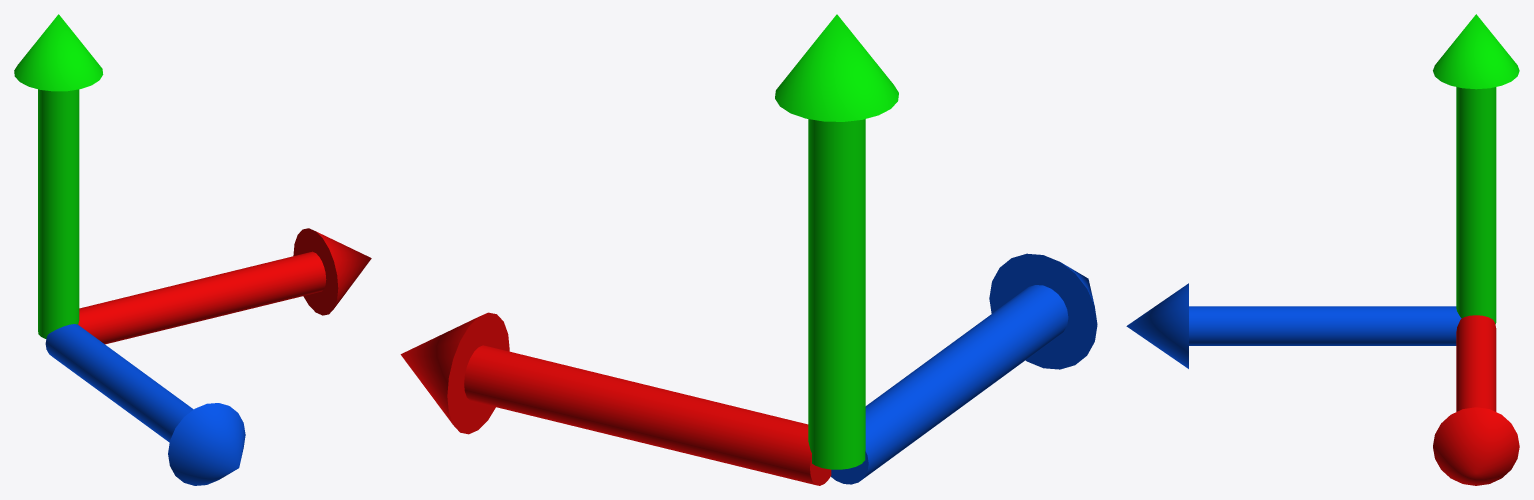
Rendered from triad.fbx.
The picture shows the model from 3 angles, left to right: view 1: azimuth 30°, elevation 25°; view 2: azimuth 150°, elevation 25°; view 3: azimuth 270°, elevation 25°; orthographic projection. The views are drawn at different scales.
Visible parts, largest first — view 1: pasted__pCone2; view 2: pasted__pCone2; view 3: pasted__pCone2.
Boxes of the visible parts, bbox=[...] form: pasted__pCone2: bbox=[14, 14, 371, 485]; pasted__pCone2: bbox=[400, 14, 1097, 485]; pasted__pCone2: bbox=[1126, 14, 1519, 485].
Size of the model in its own units: 0.4311 by 0.4244 by 0.4304.
